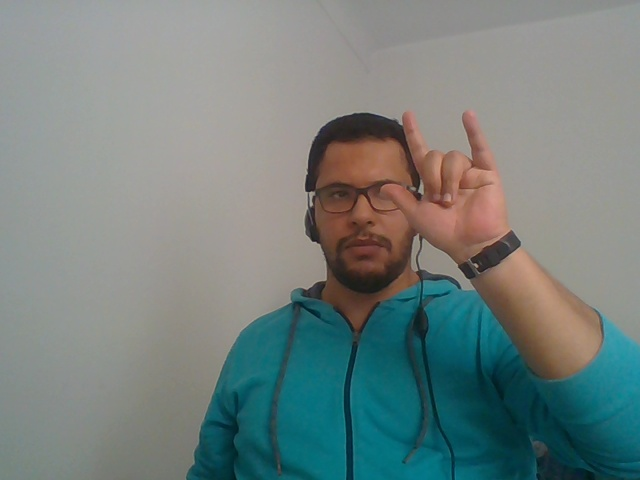iloveyou: (369, 89, 561, 316)
